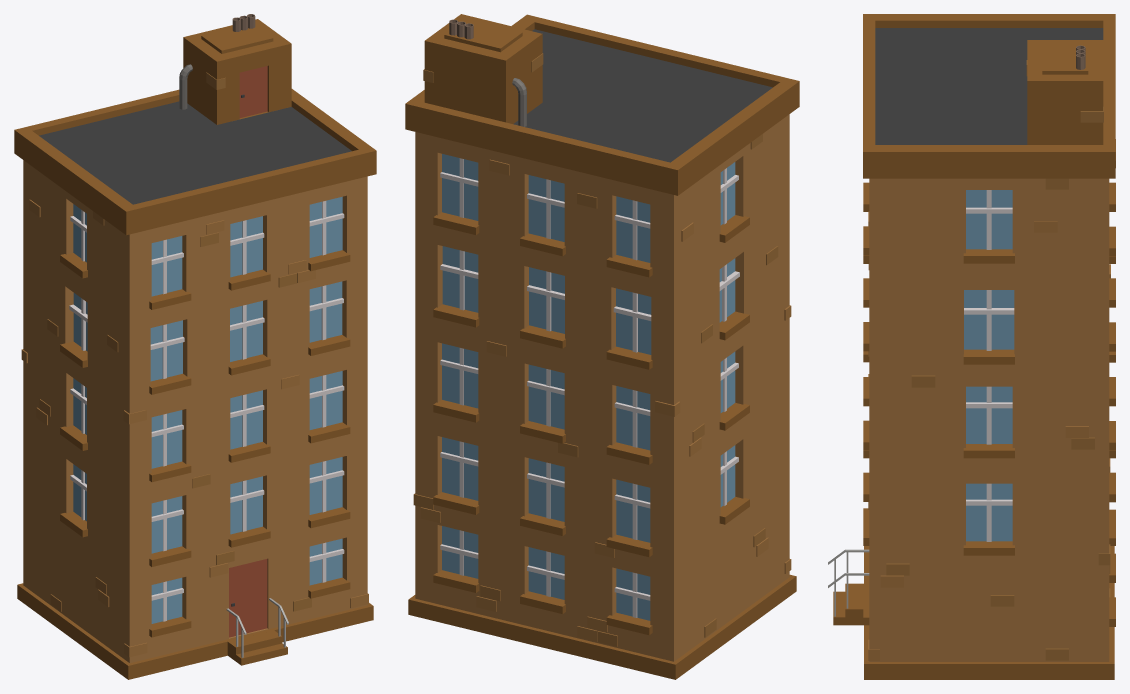
File: House_02.fbx
The picture shows the model from 3 angles, left to right: view 1: azimuth 30°, elevation 25°; view 2: azimuth 150°, elevation 25°; view 3: azimuth 270°, elevation 25°; orthographic projection. The views are drawn at different scales.
Visible parts, largest first — view 1: House_02; view 2: House_02; view 3: House_02.
Boxes of the visible parts, <box> form: House_02: <box>14,14,376,679</box>; House_02: <box>405,14,799,679</box>; House_02: <box>828,14,1115,679</box>.
Size of the model in its own units: 14.28 by 29.46 by 12.59.
